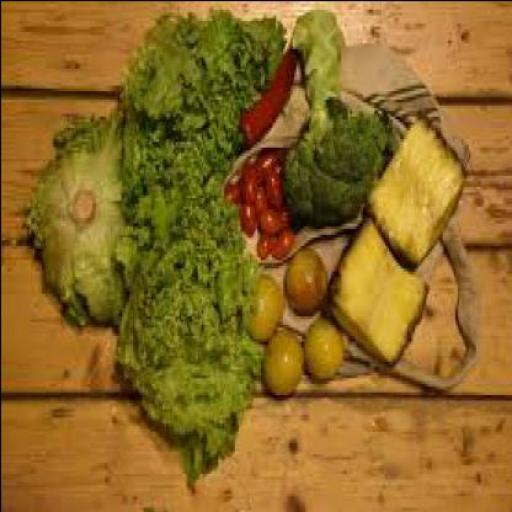biodegradable: (111, 253, 258, 487), (22, 106, 139, 320), (280, 8, 390, 222), (117, 8, 282, 143), (320, 214, 426, 363), (364, 106, 462, 262), (119, 113, 232, 228), (117, 206, 242, 276), (230, 46, 293, 129), (280, 245, 327, 309), (260, 323, 300, 397), (241, 267, 281, 341), (302, 316, 342, 380), (258, 202, 282, 234), (262, 166, 280, 208), (269, 225, 293, 250), (238, 177, 256, 206), (235, 199, 252, 228), (252, 146, 274, 168), (254, 231, 269, 255), (250, 180, 260, 216), (236, 158, 254, 177), (223, 178, 235, 194)
